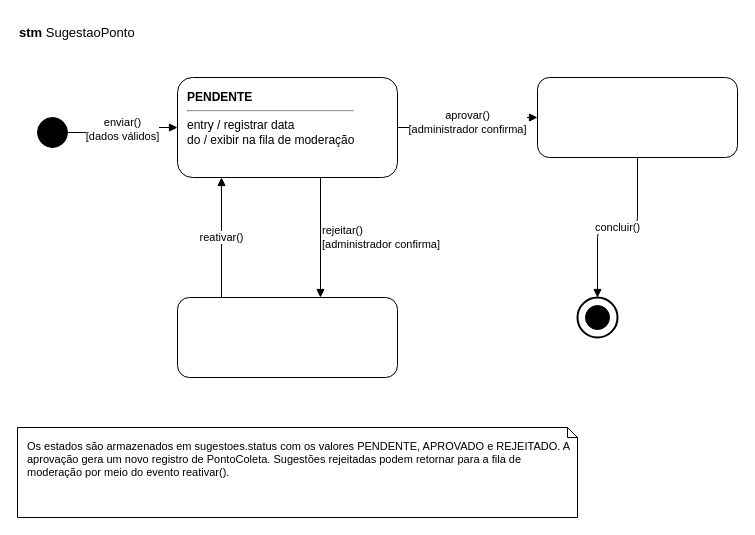
Some shapes in this 755 by 535 pixel diagram are drawn without their labels. The shapes that lost their labels are listed below. From the top down, each one's centre as x and y in pixels, then its label:
(x=637, y=117): APROVADO entry / criar PontoColeta
(x=287, y=337): REJEITADO do / manter histórico
